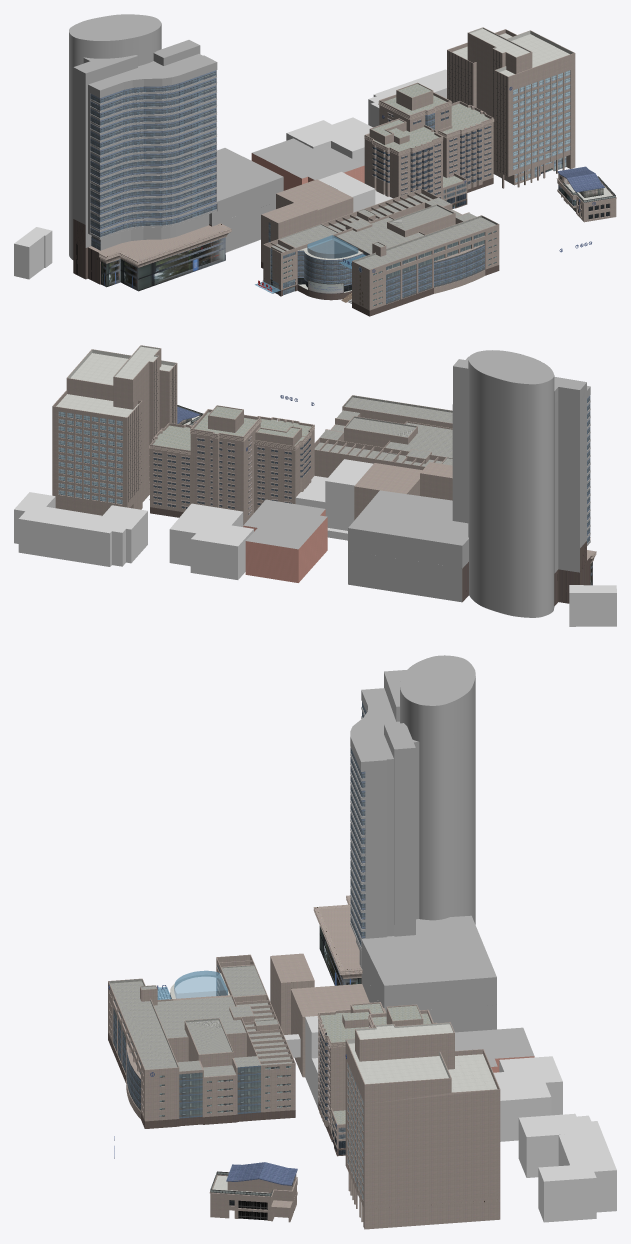
3 views of the same model, one above another, from view 1: azimuth 30°, elevation 25°; view 2: azimuth 150°, elevation 25°; view 3: azimuth 270°, elevation 25° (orthographic). The views are drawn at different scales.
Parts seen in each view (by area): view 1: 1号楼_primitive0, 1号楼_primitive3, 6号楼_primitive1, 5号楼01_primitive0, 001_primitive3, 001_primitive11, 1号楼_primitive2, 001_primitive9, 3号楼_primitive1, 6号楼_primitive0, 1号楼_primitive5, 7号楼_primitive0 (+17 smaller); view 2: 1号楼_primitive2, 1号楼_primitive0, 5号楼01_primitive0, 6号楼_primitive1, 9号楼, 8号楼, 001_primitive11, 001_primitive3, 6号楼_primitive0, 6号楼_primitive4, 3号楼_primitive1, 7号楼_primitive2 (+9 smaller); view 3: 1号楼_primitive0, 6号楼_primitive1, 1号楼_primitive2, 001_primitive3, 001_primitive11, 9号楼, 6号楼_primitive4, 3号楼_primitive1, 8号楼, 5号楼01_primitive0, 12号楼_primitive0, 001_primitive8 (+10 smaller).
Boxes of the visible parts, left/top/right/bottom form: 1号楼_primitive0: left=69, top=14, right=283, bottom=250; 1号楼_primitive3: left=90, top=70, right=216, bottom=250; 6号楼_primitive1: left=447, top=27, right=575, bottom=188; 5号楼01_primitive0: left=364, top=82, right=494, bottom=203; 001_primitive3: left=263, top=188, right=499, bottom=310; 001_primitive11: left=271, top=193, right=498, bottom=269; 1号楼_primitive2: left=69, top=24, right=275, bottom=263; 001_primitive9: left=283, top=244, right=484, bottom=304; 3号楼_primitive1: left=261, top=179, right=353, bottom=262; 6号楼_primitive0: left=513, top=70, right=570, bottom=182; 1号楼_primitive5: left=100, top=237, right=225, bottom=291; 7号楼_primitive0: left=252, top=138, right=364, bottom=179; 1号楼_primitive2: left=348, top=360, right=554, bottom=617; 1号楼_primitive0: left=348, top=350, right=590, bottom=573; 5号楼01_primitive0: left=149, top=405, right=314, bottom=524; 6号楼_primitive1: left=52, top=345, right=177, bottom=515; 9号楼: left=14, top=492, right=147, bottom=566; 8号楼: left=169, top=503, right=253, bottom=579; 001_primitive11: left=314, top=395, right=452, bottom=466; 001_primitive3: left=314, top=395, right=452, bottom=477; 6号楼_primitive0: left=58, top=411, right=122, bottom=504; 6号楼_primitive4: left=56, top=345, right=175, bottom=417; 3号楼_primitive1: left=354, top=462, right=452, bottom=520; 7号楼_primitive2: left=243, top=509, right=327, bottom=582; 1号楼_primitive0: left=350, top=655, right=496, bottom=1012; 6号楼_primitive1: left=345, top=1022, right=500, bottom=1229; 1号楼_primitive2: left=361, top=676, right=496, bottom=1032; 001_primitive3: left=108, top=954, right=295, bottom=1121; 001_primitive11: left=109, top=965, right=292, bottom=1076; 9号楼: left=518, top=1113, right=616, bottom=1222; 6号楼_primitive4: left=347, top=1023, right=497, bottom=1092; 3号楼_primitive1: left=270, top=953, right=369, bottom=1077; 8号楼: left=494, top=1056, right=562, bottom=1141; 5号楼01_primitive0: left=317, top=1002, right=436, bottom=1148; 12号楼_primitive0: left=209, top=1174, right=297, bottom=1222; 001_primitive8: left=113, top=999, right=260, bottom=1118.
Size of the model in its own units: 275 by 111 by 214.
56 materials, 39 textured.
